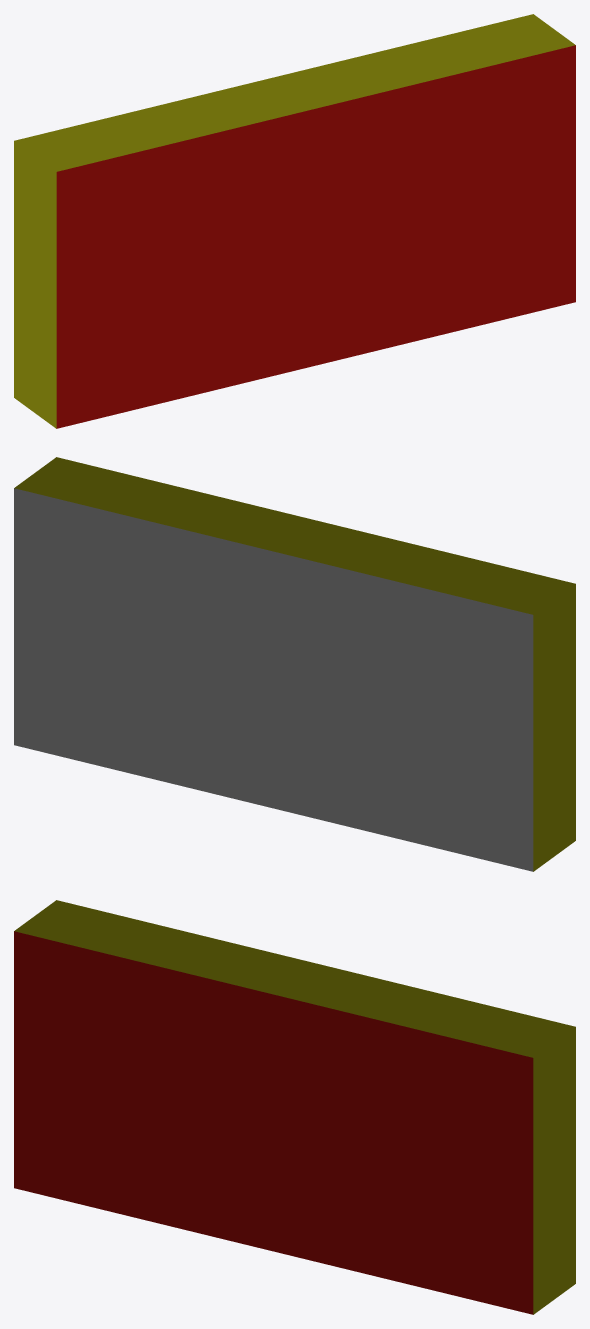
The model's file is idf.obj.
3 renders of one model, top to bottom at view 1: azimuth 30°, elevation 25°; view 2: azimuth 150°, elevation 25°; view 3: azimuth 330°, elevation 25°, orthographic.
Size of the model in its own units: 32.24 by 15.24 by 4.57.
